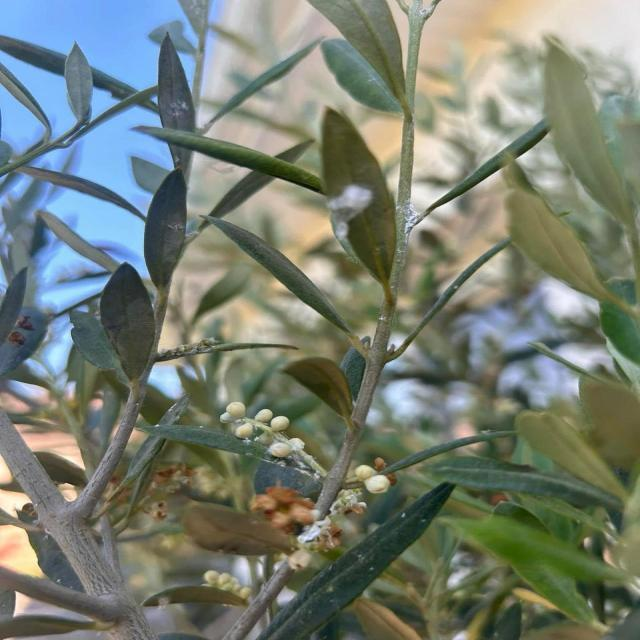Psyllid: (220, 402, 327, 482), (281, 488, 366, 572), (327, 182, 374, 252), (396, 200, 437, 240)
